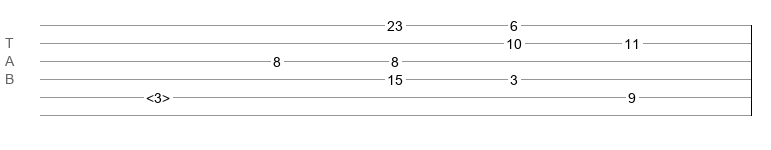10: (506, 36, 522, 46)
11: (624, 36, 640, 46)
15: (387, 72, 403, 82)
23: (387, 18, 403, 28)
3: (510, 72, 518, 82)
6: (510, 18, 518, 28)
8: (273, 54, 281, 64), (391, 54, 399, 64)
9: (628, 90, 636, 100)
harmonic: (146, 90, 170, 100)
